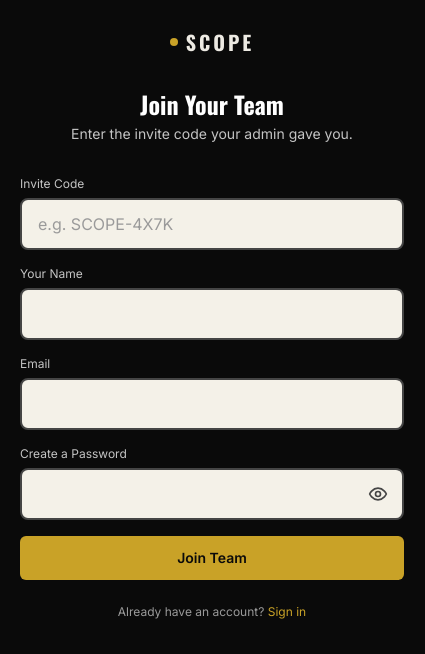
Test: Join (signup + invite code redemption) › shows a safe generic error (not the raw Supabase message) and does not redeem an invite code if signUp itself fails
This screenshot has width=425, height=654.
Type "SCOPE-4X7K" into the field with placeholder "e.g. SCOPE-4X7K" at (212, 224), box x1=20 y1=198 x2=404 y2=250
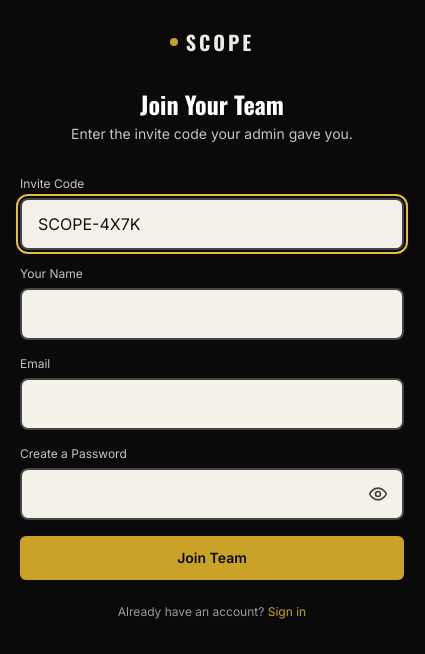
Type "Jamie Plumber" into the field below "Your Name" at (212, 314), box x1=20 y1=288 x2=404 y2=340
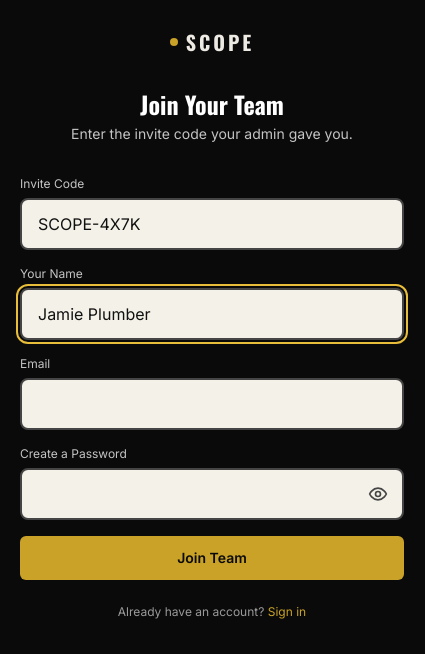
Type "jamie@scope.test" into the field below "Email" at (212, 404), box x1=20 y1=378 x2=404 y2=430
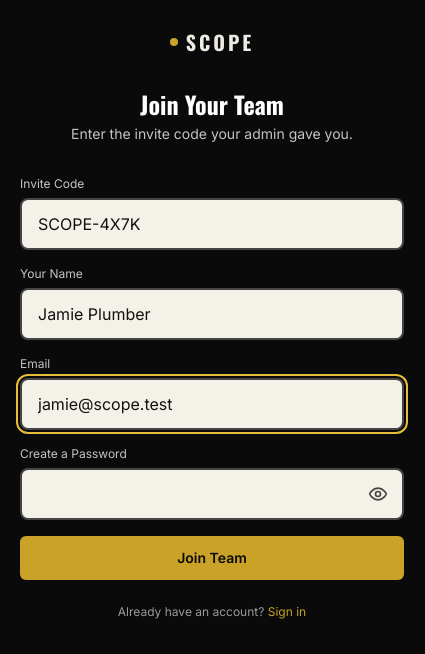
Type "hunter22" into the password field at (212, 494), box x1=20 y1=468 x2=404 y2=520
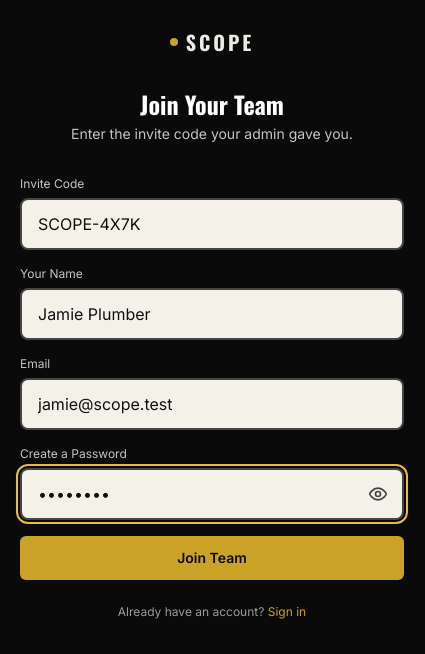
Click the button "Join Team" at (212, 558), box x1=20 y1=536 x2=404 y2=580
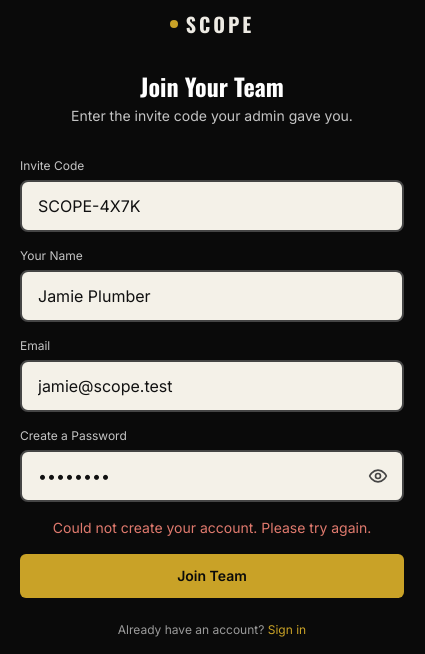
Expected: the text "Could not create your account. Please try again." is shown, x1=53 y1=519 x2=371 y2=536
